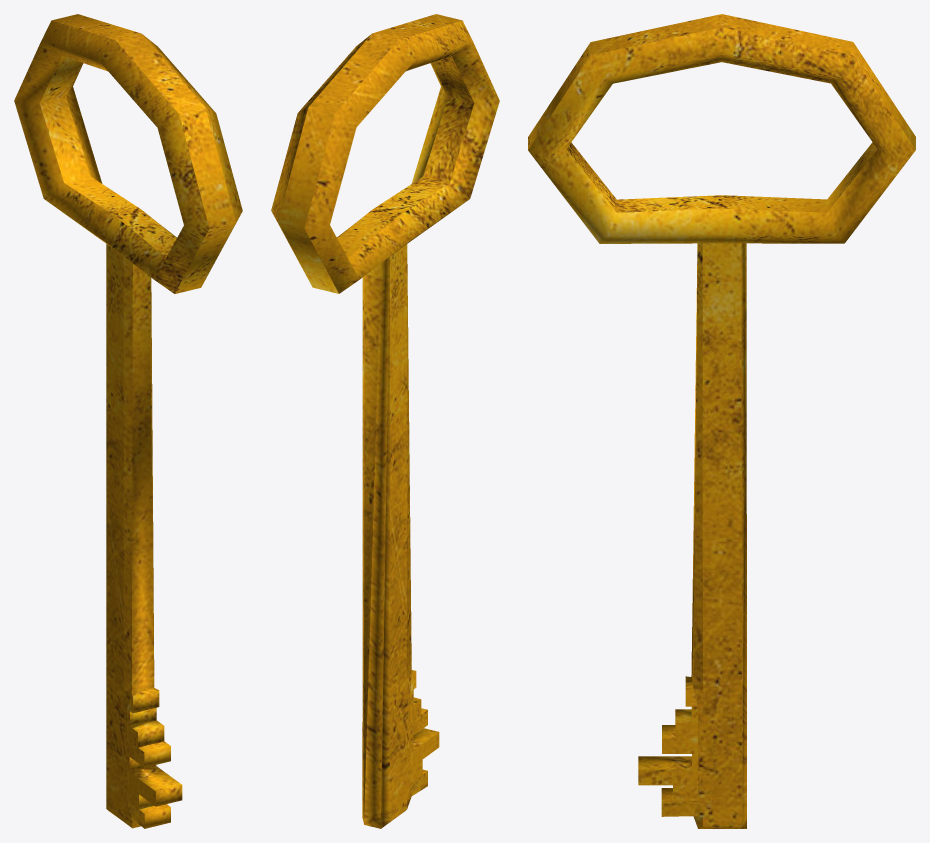
The model's file is keyGold.glb.
3 views of the same model, side by side, from view 1: azimuth 30°, elevation 25°; view 2: azimuth 150°, elevation 25°; view 3: azimuth 270°, elevation 25° (orthographic). The views are drawn at different scales.
Visible parts, largest first — view 1: goldKey; view 2: goldKey; view 3: goldKey.
Boxes of the visible parts, <box> form: goldKey: <box>14,14,242,828</box>; goldKey: <box>271,14,499,828</box>; goldKey: <box>528,14,915,828</box>.
Size of the model in its own units: 0.00691 by 0.0876 by 0.0383.
Materials: 1 (1 with a texture image).
